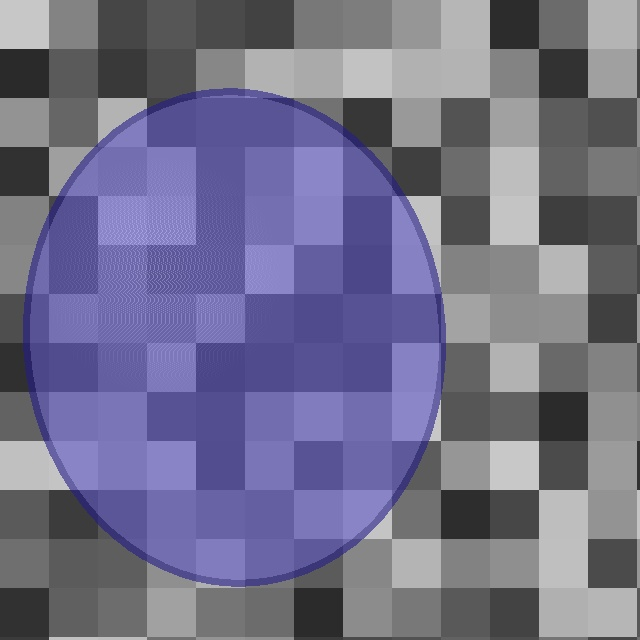lens: (27, 92, 441, 582)
